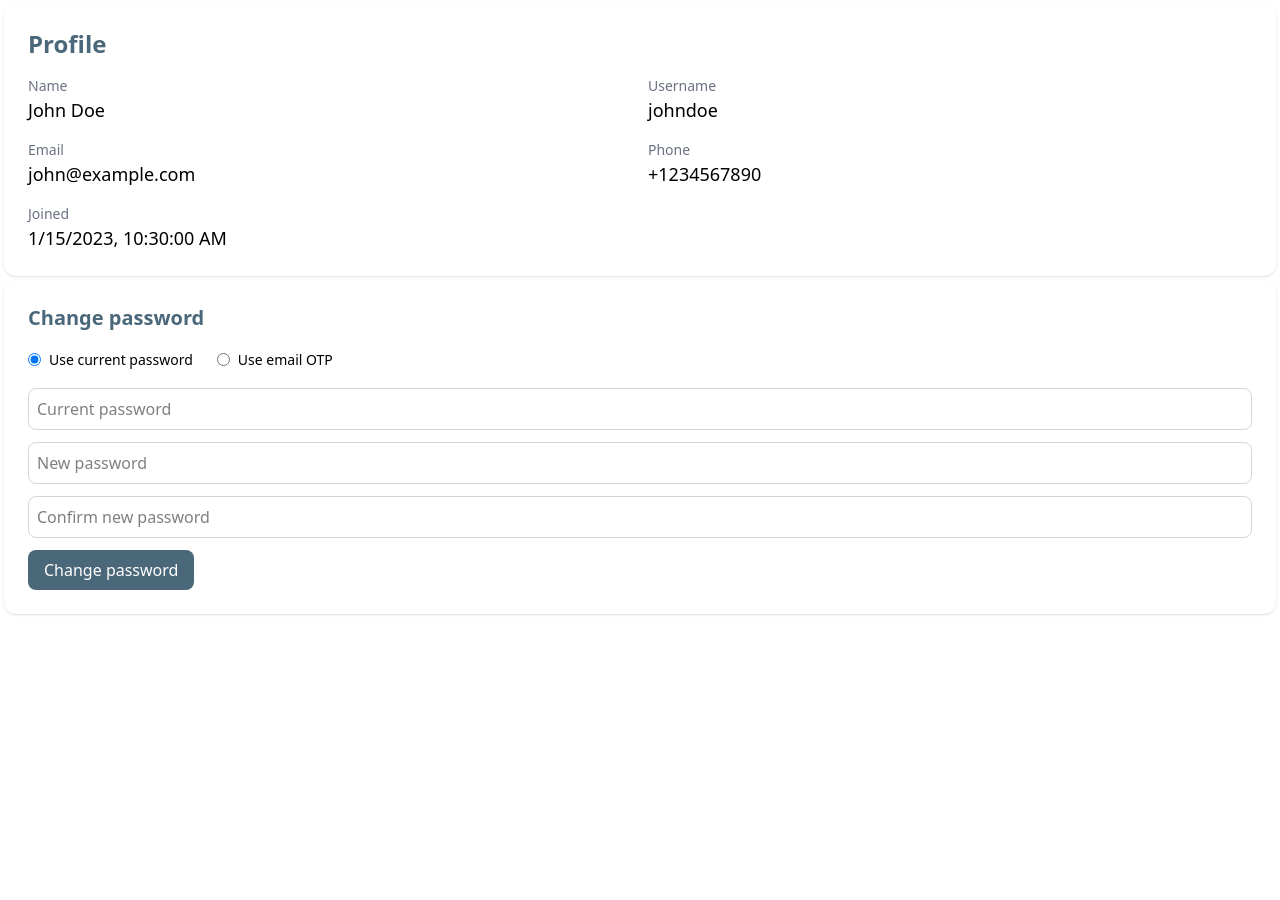
it: Profile Component › Change Password - Current Password Method › should show error if new password and confirm password do not match
Expected: the heading "Change password" is shown, left=28, top=304, right=204, bottom=331
Type "currentPass123" into the password field with placeholder "Current password" at (640, 409), box left=28, top=388, right=1252, bottom=430
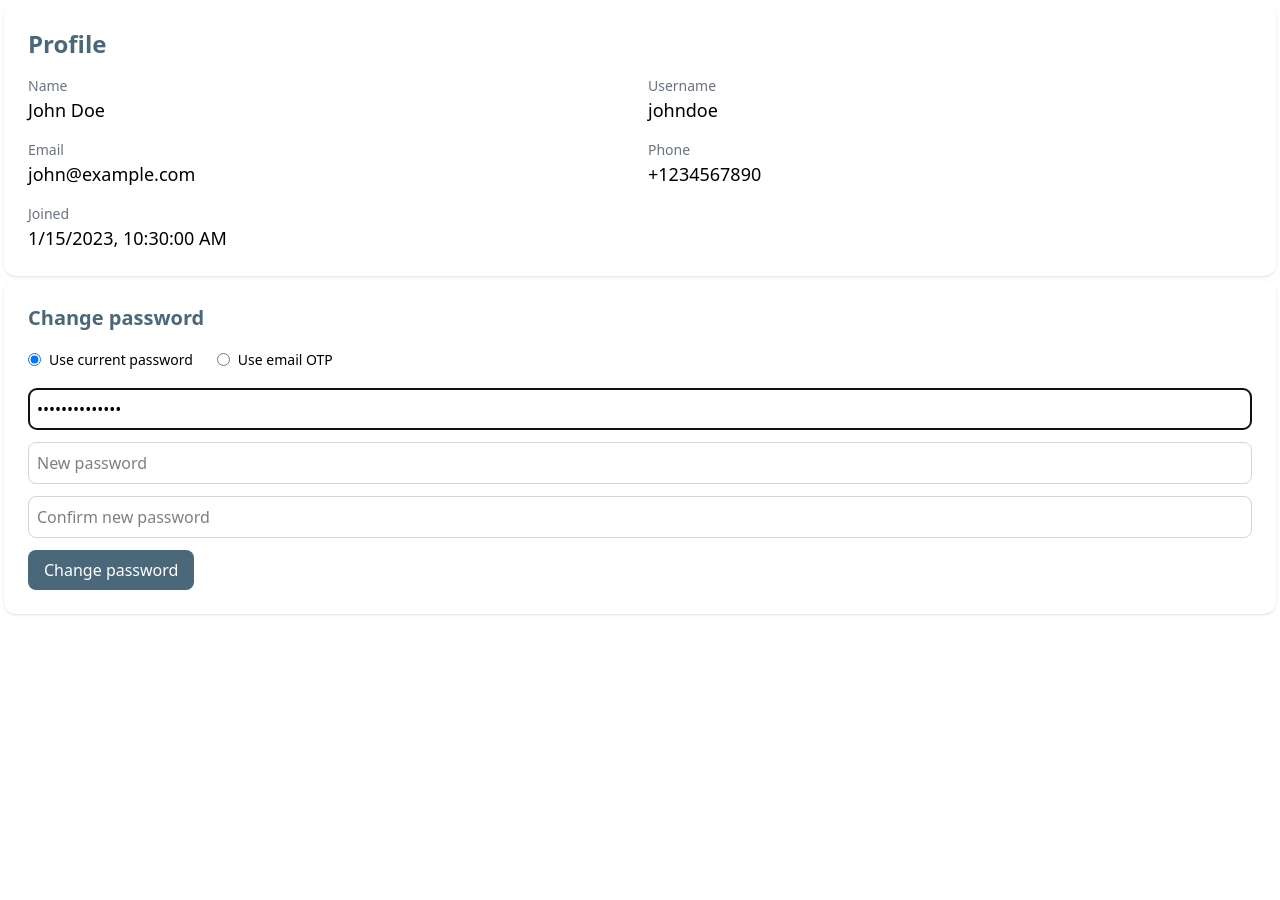
Type "newPass123" into the password field with placeholder "New password" at (640, 463), box left=28, top=442, right=1252, bottom=484
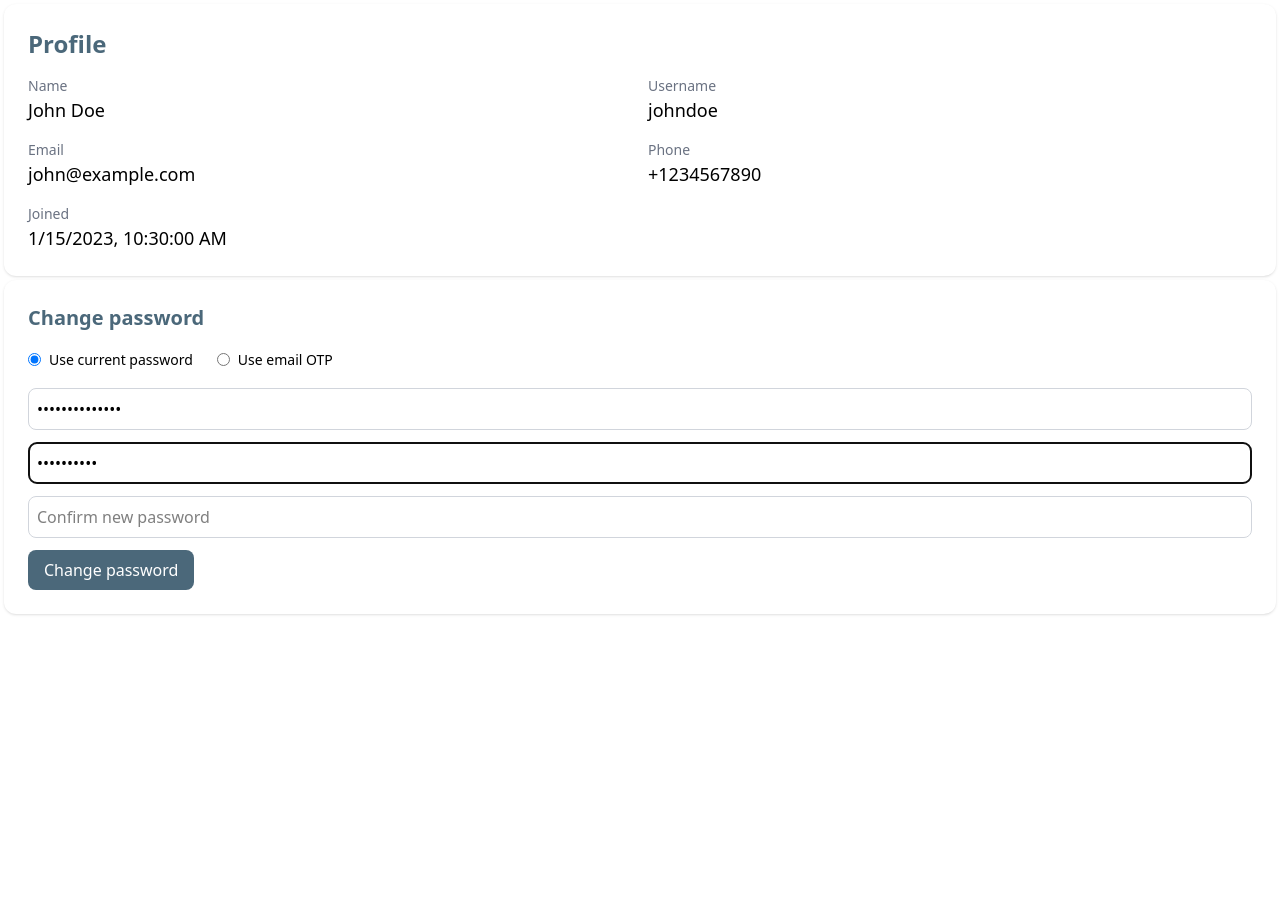
Type "newPass456" into the password field with placeholder "Confirm new password" at (640, 517), box left=28, top=496, right=1252, bottom=538
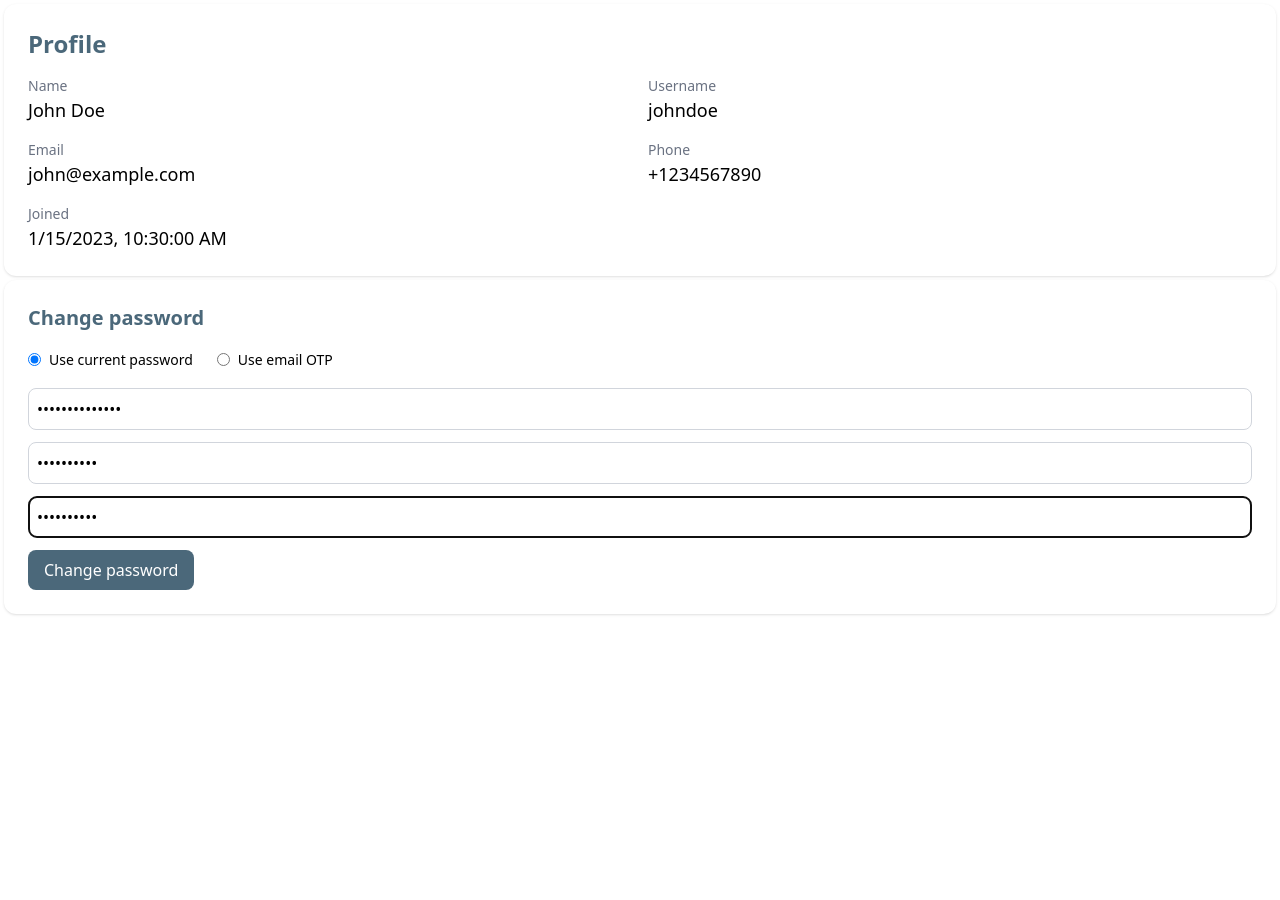
Click the button "Change password" at (111, 570), box left=28, top=550, right=194, bottom=590
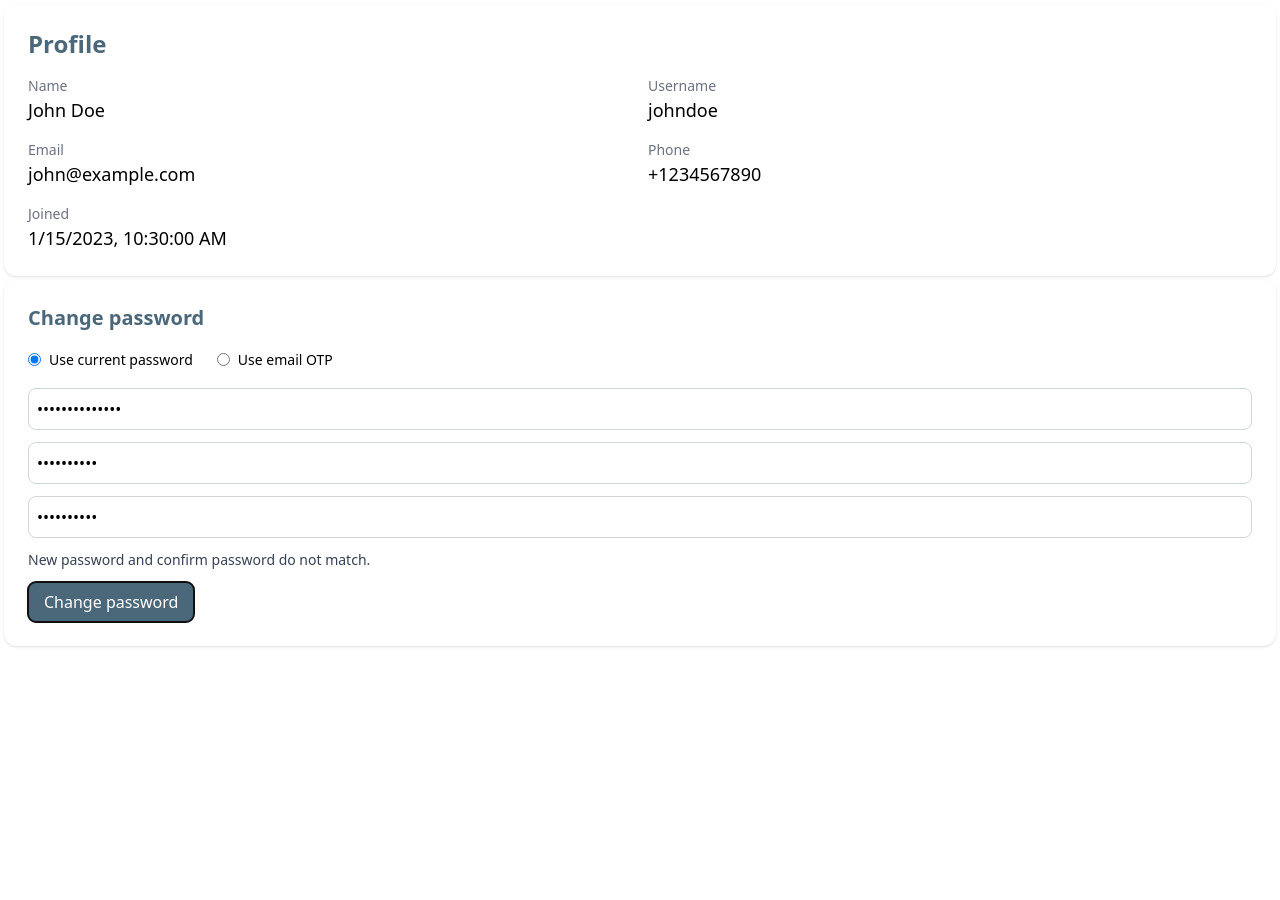
Result: the text "New password and confirm password do not match." is shown at left=28, top=550, right=370, bottom=569
